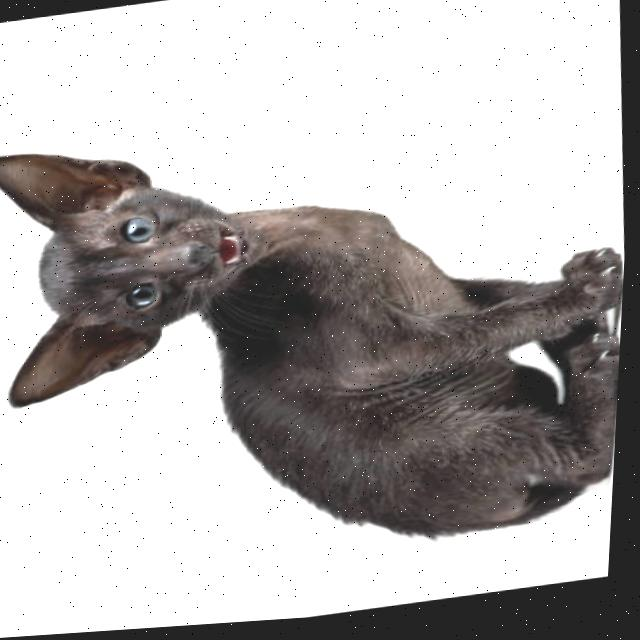Oriental: (0, 74, 636, 601)
